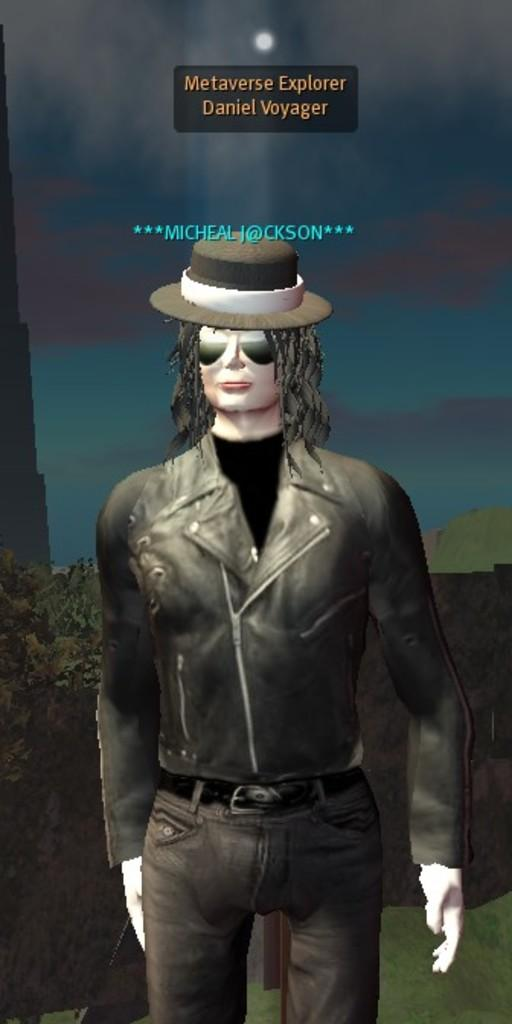Hat: (151, 224, 329, 334)
